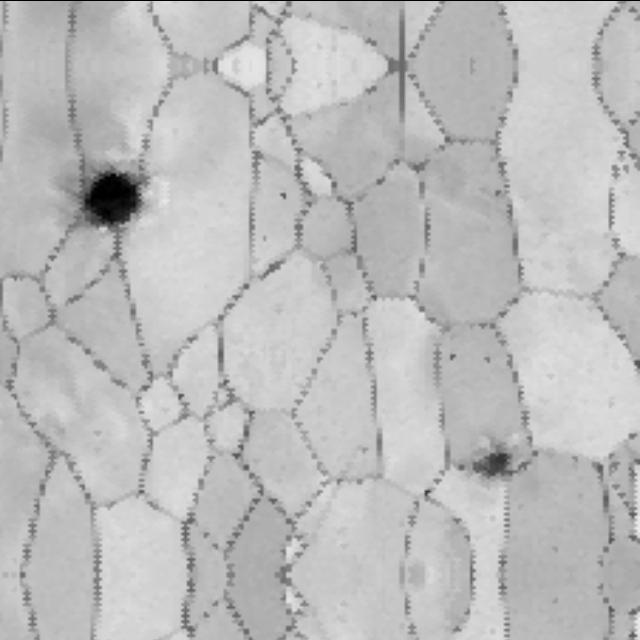good_void: (62, 158, 158, 237), (451, 443, 515, 481), (275, 189, 289, 202), (491, 187, 502, 200), (446, 350, 457, 362)
